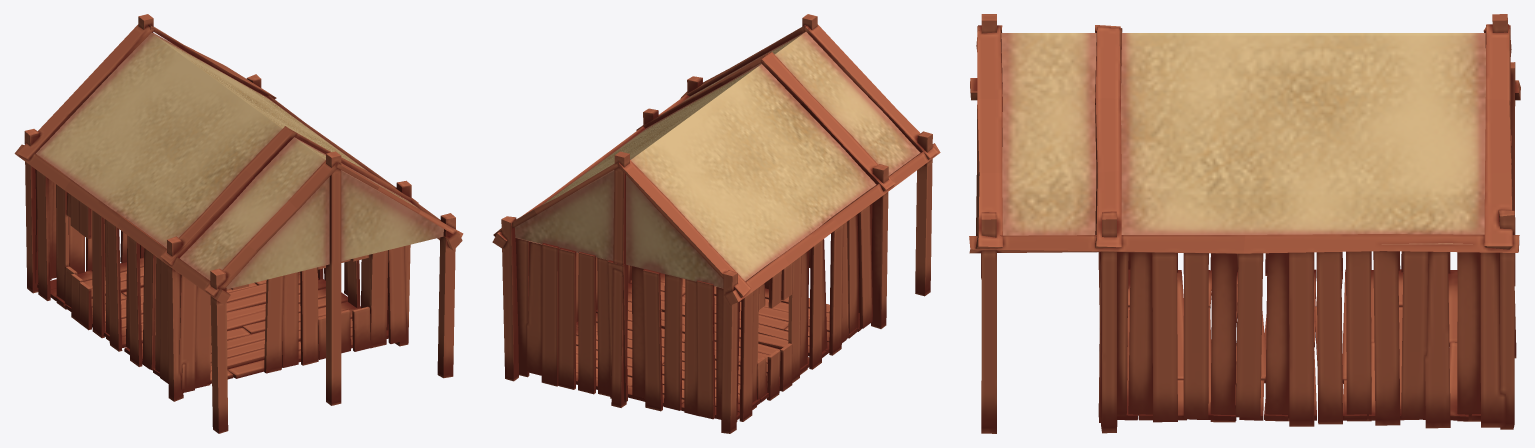
File: Cabin.glb
3 renders of one model, left to right at view 1: azimuth 30°, elevation 25°; view 2: azimuth 150°, elevation 25°; view 3: azimuth 270°, elevation 25°, orthographic. The views are drawn at different scales.
Parts seen in each view (by area): view 1: Cabin; view 2: Cabin; view 3: Cabin.
Boxes of the visible parts, box(x1,y1,x2,y2) form: Cabin: box(14, 14, 463, 433); Cabin: box(492, 14, 940, 433); Cabin: box(969, 14, 1520, 433).
Size of the model in its own units: 5.3 by 5.02 by 7.4.
Materials: 1 (1 with a texture image).
